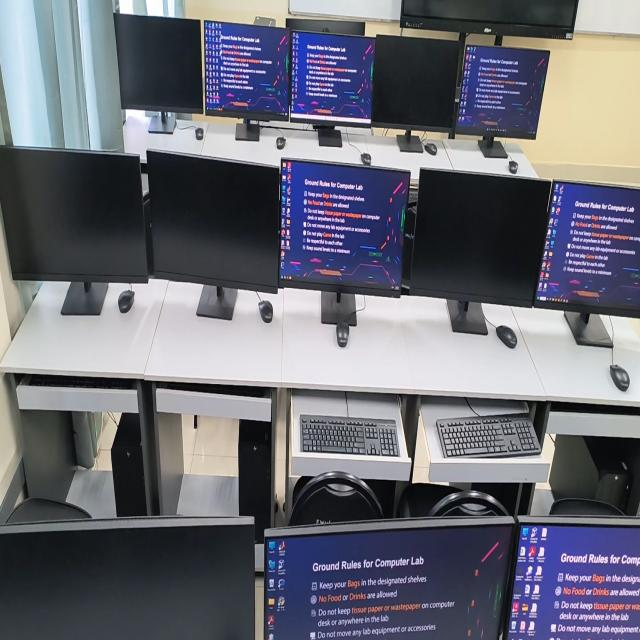Chair: (289, 471, 383, 526), (5, 497, 92, 524), (428, 490, 510, 517)
Cpu: (549, 436, 631, 511), (239, 420, 271, 543), (111, 414, 146, 516)
Digital board: (400, 0, 578, 39)
Keyboard: (436, 414, 541, 457), (300, 414, 399, 456)
Monitor: (0, 516, 254, 639), (264, 517, 514, 639), (403, 168, 550, 306), (0, 146, 148, 281), (148, 151, 280, 293), (279, 158, 409, 296), (507, 516, 640, 639), (535, 181, 640, 316), (455, 44, 549, 139), (371, 34, 463, 131), (114, 15, 203, 113), (204, 21, 290, 120), (290, 30, 375, 127), (285, 18, 365, 35), (323, 224, 354, 239), (307, 222, 320, 228)
Mouse: (610, 365, 630, 391), (496, 325, 517, 348), (118, 289, 134, 313), (336, 322, 349, 347), (259, 300, 273, 323), (276, 133, 286, 149), (424, 143, 437, 155), (508, 160, 518, 174), (361, 151, 371, 164), (195, 127, 203, 139)
